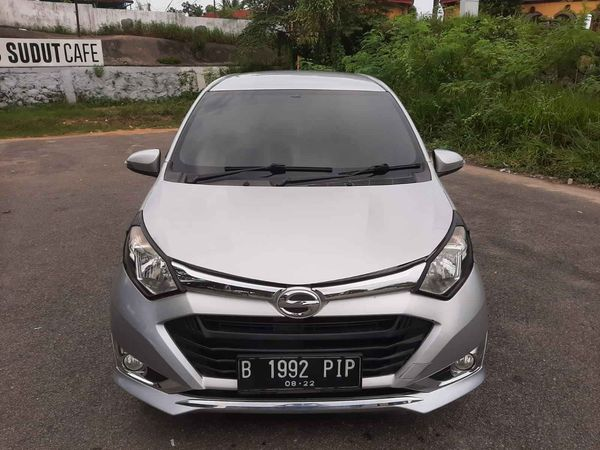plate: (229, 352, 364, 391)
